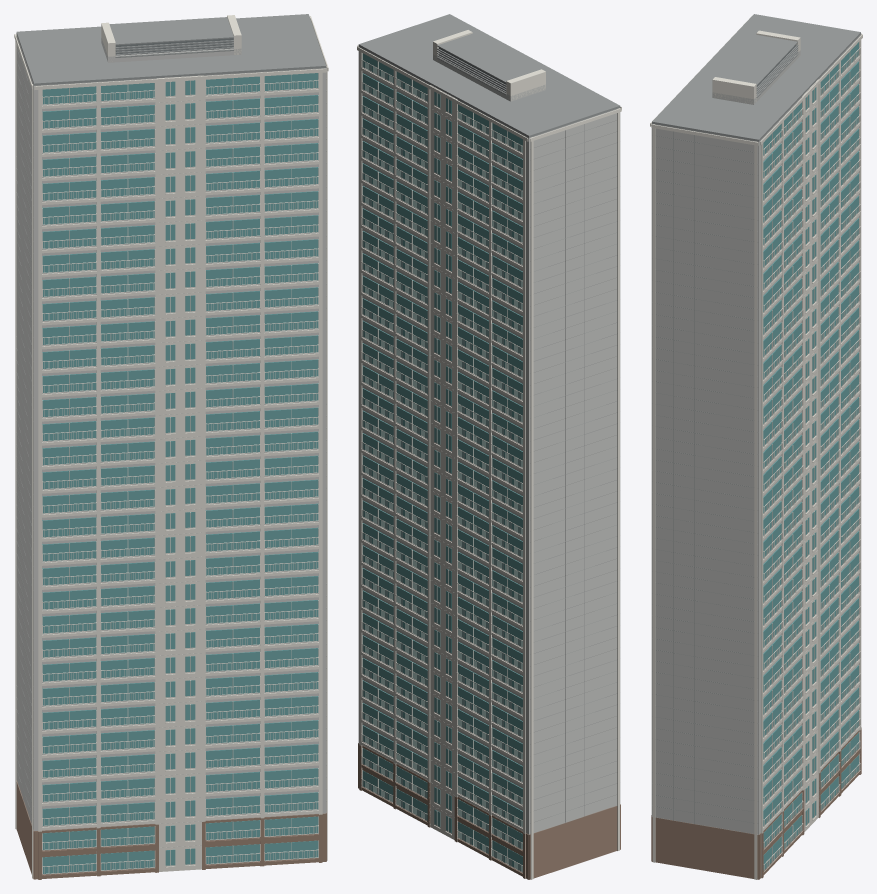
The model's file is bespoke-jamsil-els-142.glb.
3 views of the same model, side by side, from view 1: azimuth 30°, elevation 25°; view 2: azimuth 150°, elevation 25°; view 3: azimuth 270°, elevation 25° (orthographic). The views are drawn at different scales.
Parts seen in each view (by area): view 1: Els142_editable_Els142_turquoise_balcony_glazing, Els142_editable_Els142_light_grey_solid_wall, Els142_white_exact_chunk_2, Els142_white_exact_chunk_3, Els142_white_exact_chunk_4, Els142_editable_Els142_modest_grey_flat_roof_caps, Els142_white_exact_chunk_5, Els142_editable_Els142_muted_ground_wall, Els142_editable_Els142_narrow_charcoal_service_strips; view 2: Els142_editable_Els142_light_grey_solid_wall, Els142_editable_Els142_turquoise_balcony_glazing, Els142_white_exact_chunk_0, Els142_white_exact_chunk_1, Els142_white_exact_chunk_2, Els142_editable_Els142_modest_grey_flat_roof_caps, Els142_editable_Els142_muted_ground_wall, Els142_white_exact_chunk_5; view 3: Els142_editable_Els142_light_grey_solid_wall, Els142_editable_Els142_turquoise_balcony_glazing, Els142_white_exact_chunk_0, Els142_editable_Els142_modest_grey_flat_roof_caps, Els142_white_exact_chunk_1, Els142_white_exact_chunk_2, Els142_white_exact_chunk_5, Els142_editable_Els142_muted_ground_wall.
Part boxes in pixels (x1,y1,x2,y2): Els142_editable_Els142_turquoise_balcony_glazing: (42, 73, 318, 873); Els142_editable_Els142_light_grey_solid_wall: (16, 34, 326, 847); Els142_white_exact_chunk_2: (14, 33, 203, 878); Els142_white_exact_chunk_3: (38, 78, 260, 875); Els142_white_exact_chunk_4: (205, 76, 318, 861); Els142_editable_Els142_modest_grey_flat_roof_caps: (16, 14, 326, 825); Els142_white_exact_chunk_5: (34, 15, 328, 860); Els142_editable_Els142_muted_ground_wall: (16, 780, 326, 879); Els142_editable_Els142_narrow_charcoal_service_strips: (115, 38, 233, 54); Els142_editable_Els142_light_grey_solid_wall: (358, 46, 620, 834); Els142_editable_Els142_turquoise_balcony_glazing: (362, 53, 522, 871); Els142_white_exact_chunk_0: (361, 53, 457, 839); Els142_white_exact_chunk_1: (359, 48, 522, 872); Els142_white_exact_chunk_2: (357, 46, 621, 879); Els142_editable_Els142_modest_grey_flat_roof_caps: (358, 14, 620, 826); Els142_editable_Els142_muted_ground_wall: (358, 743, 620, 879); Els142_white_exact_chunk_5: (357, 30, 621, 109); Els142_editable_Els142_light_grey_solid_wall: (652, 34, 860, 834); Els142_editable_Els142_turquoise_balcony_glazing: (763, 42, 858, 870); Els142_white_exact_chunk_0: (763, 79, 818, 871); Els142_editable_Els142_modest_grey_flat_roof_caps: (652, 14, 860, 834); Els142_white_exact_chunk_1: (761, 63, 860, 877); Els142_white_exact_chunk_2: (760, 33, 862, 817); Els142_white_exact_chunk_5: (650, 16, 800, 879); Els142_editable_Els142_muted_ground_wall: (651, 727, 861, 879).
Size of the model in its own units: 33.66 by 93.4 by 23.77.
